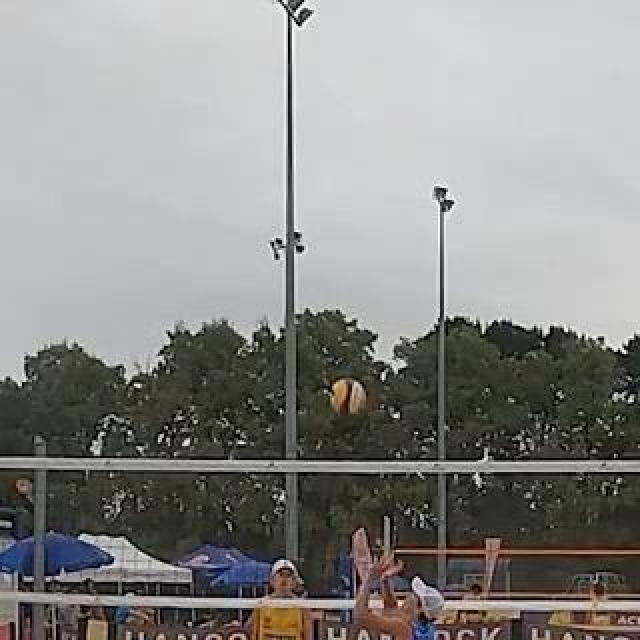volleyball: (331, 379, 365, 413)
